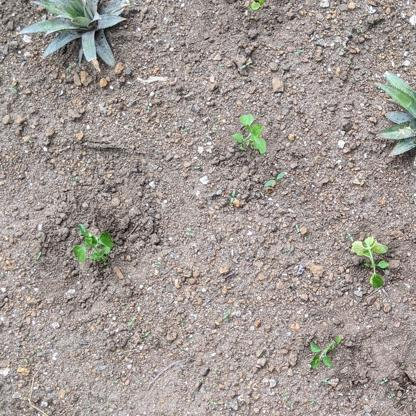pineapple: (17, 1, 134, 70), (372, 70, 416, 159)
weed: (350, 233, 389, 290), (71, 221, 116, 264), (231, 111, 270, 156), (305, 335, 340, 371)
